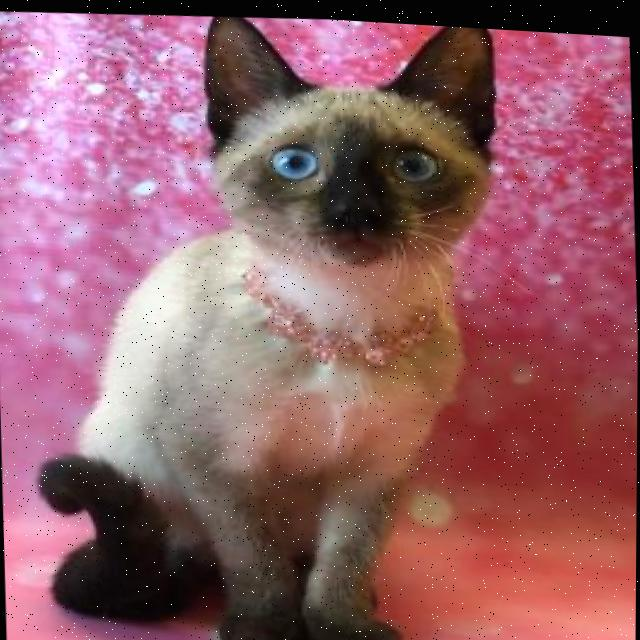Siamese: (13, 1, 520, 640)
